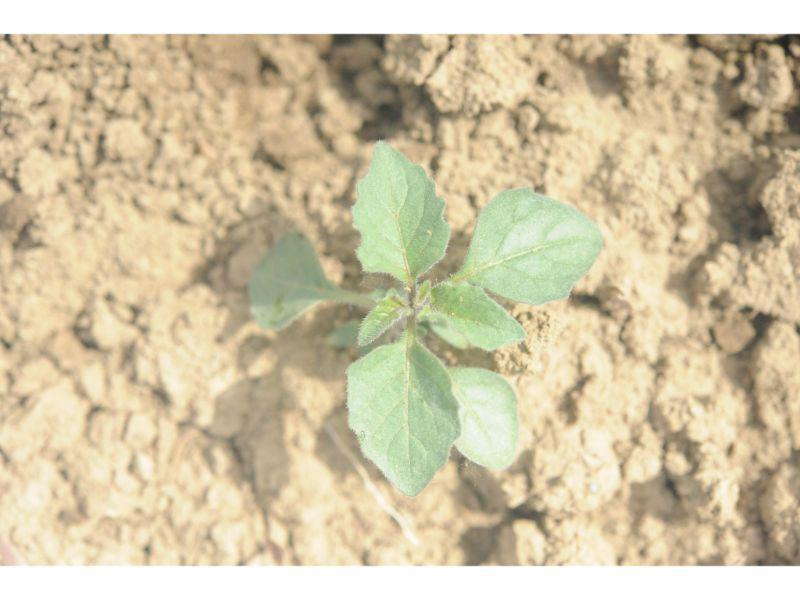nightshade: (246, 138, 604, 498)
